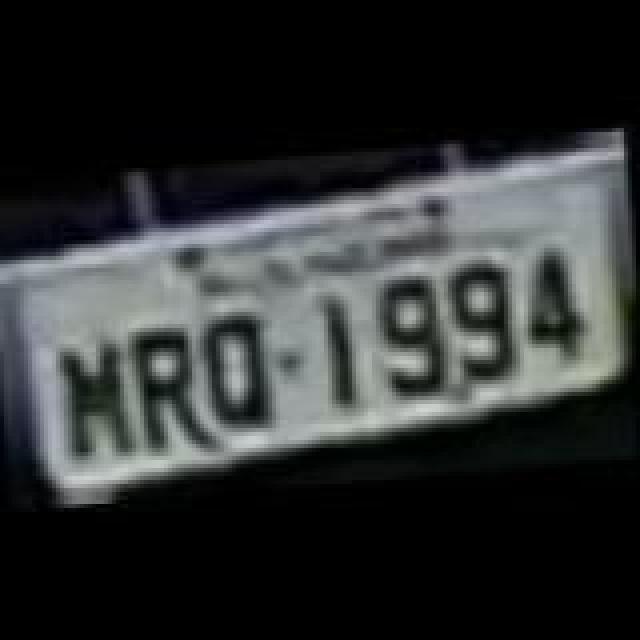1: (312, 290, 372, 414)
4: (518, 242, 598, 374)
9: (440, 258, 524, 394), (374, 278, 454, 398)
M: (58, 334, 142, 466)
Q: (198, 306, 278, 434)
R: (130, 320, 214, 452)
